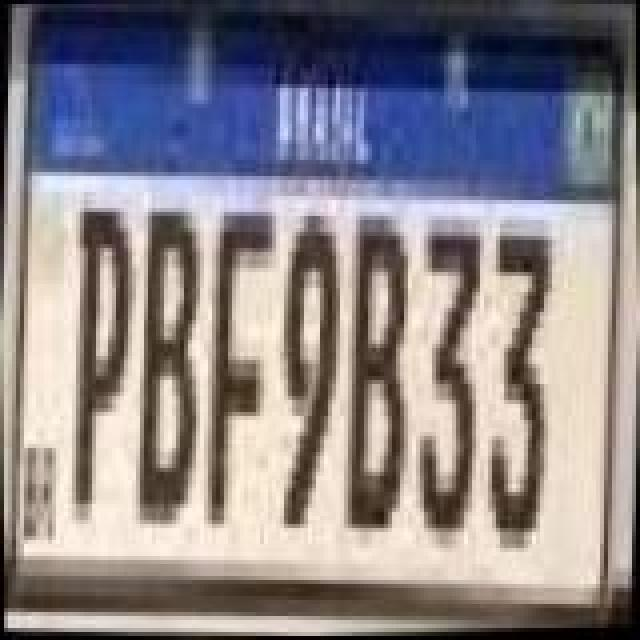3: (480, 226, 564, 554), (410, 228, 490, 540)
9: (268, 202, 348, 526)
B: (334, 210, 422, 542), (128, 202, 208, 526)
F: (200, 200, 280, 536)
P: (60, 204, 140, 520)
